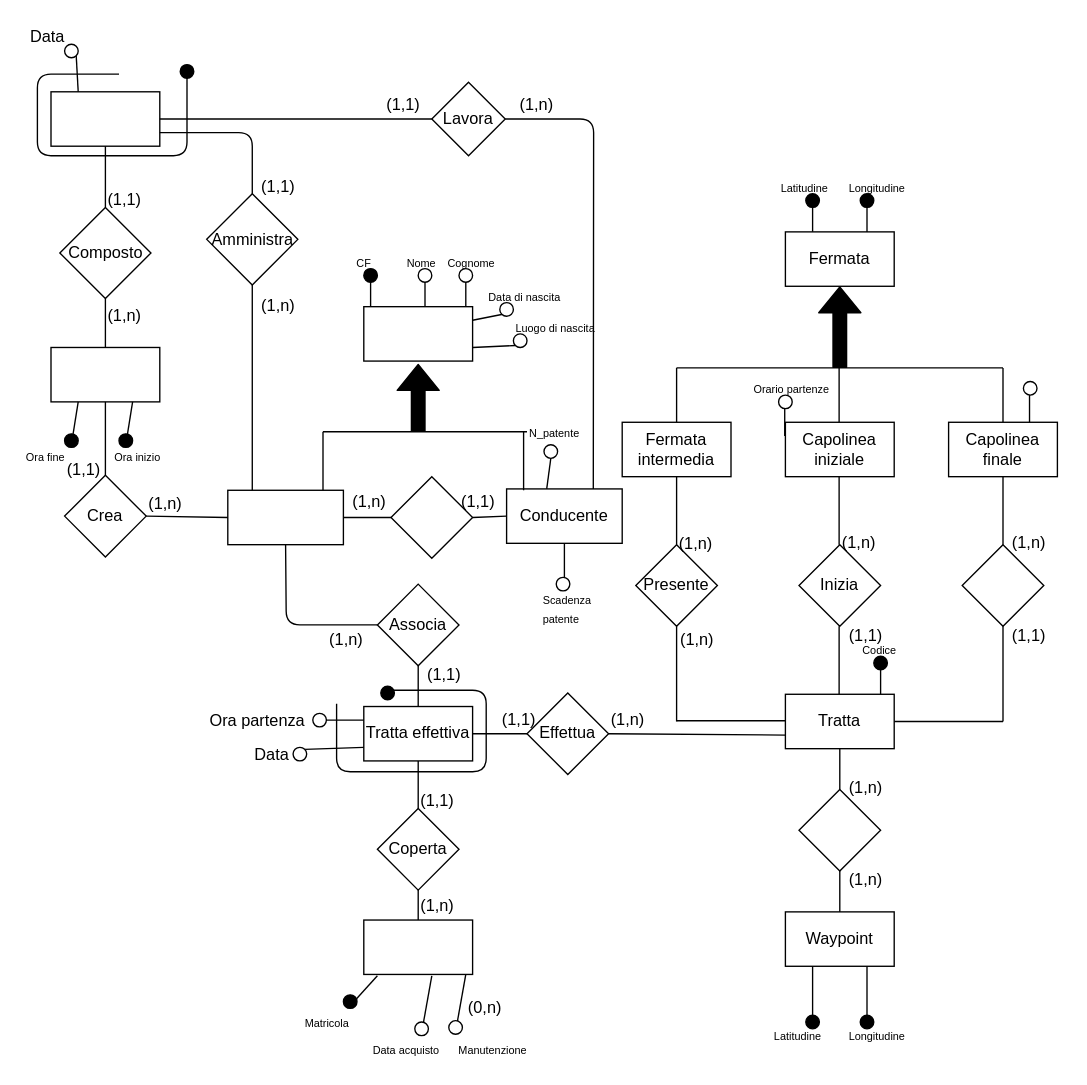
Image size: 1087x1085. Some labels were removed from this diagram. Here are the shapes that lost their labels. From the top down, the centre of each, then its label:
At point 105,118: "Turno effettivo".
At point 417,333: "Dipendente".
At point 105,374: "Turno".
At point 284,517: "Amministratore".
At point 431,516: "Gestisce".
At point 1002,584: "Finisce".
At point 839,829: "Formata".
At point 417,946: "Veicolo".
